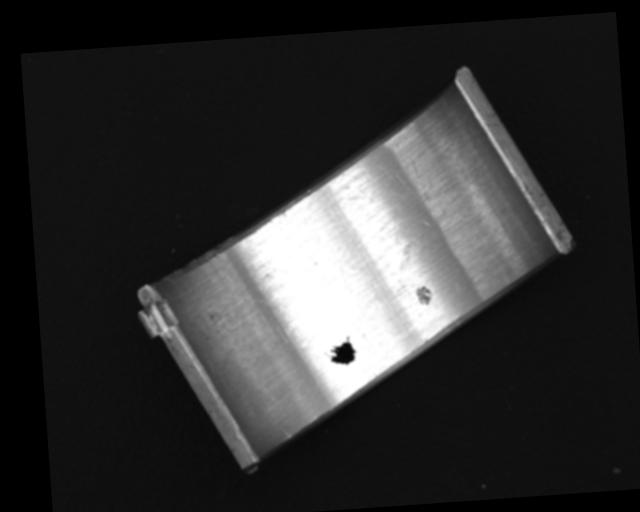blot: (321, 335, 357, 367)
bruise: (413, 283, 433, 307)
nick: (280, 426, 291, 441)
